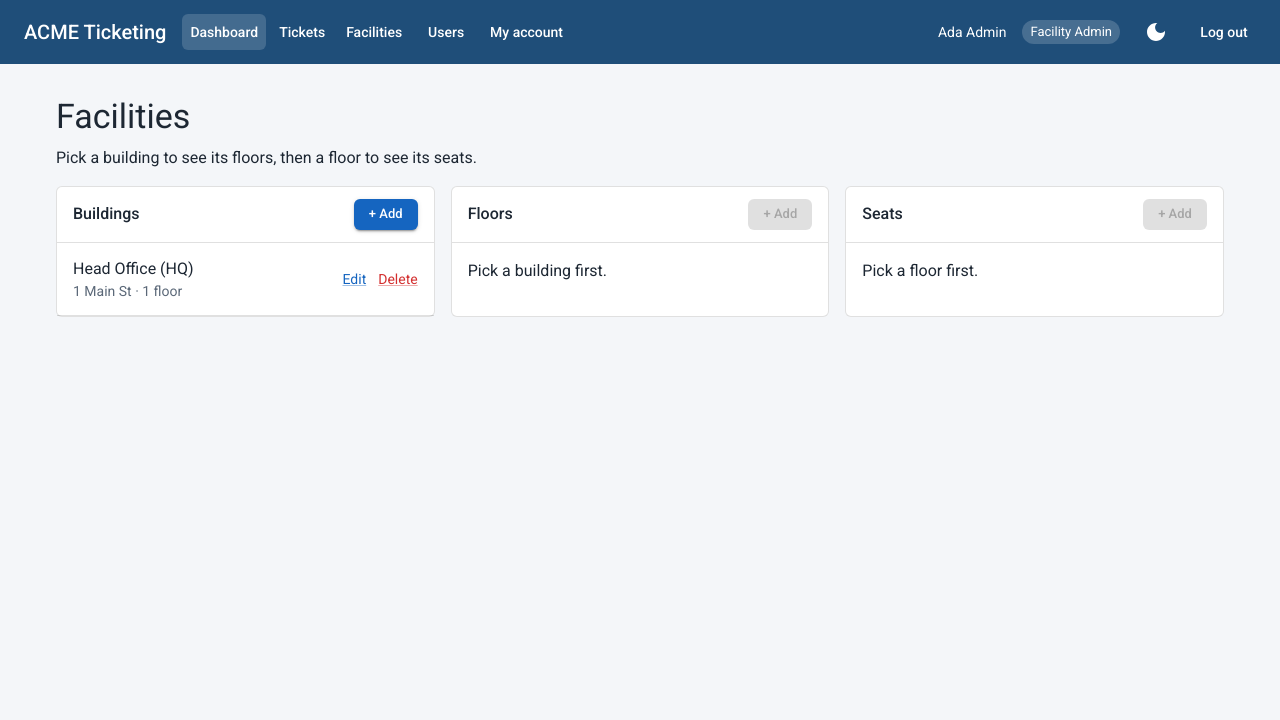
FacilitiesPage › a refused delete shows why, and keeps what was picked
Click the text "Head Office (HQ)" at (133,268), box [73,259,194,278]
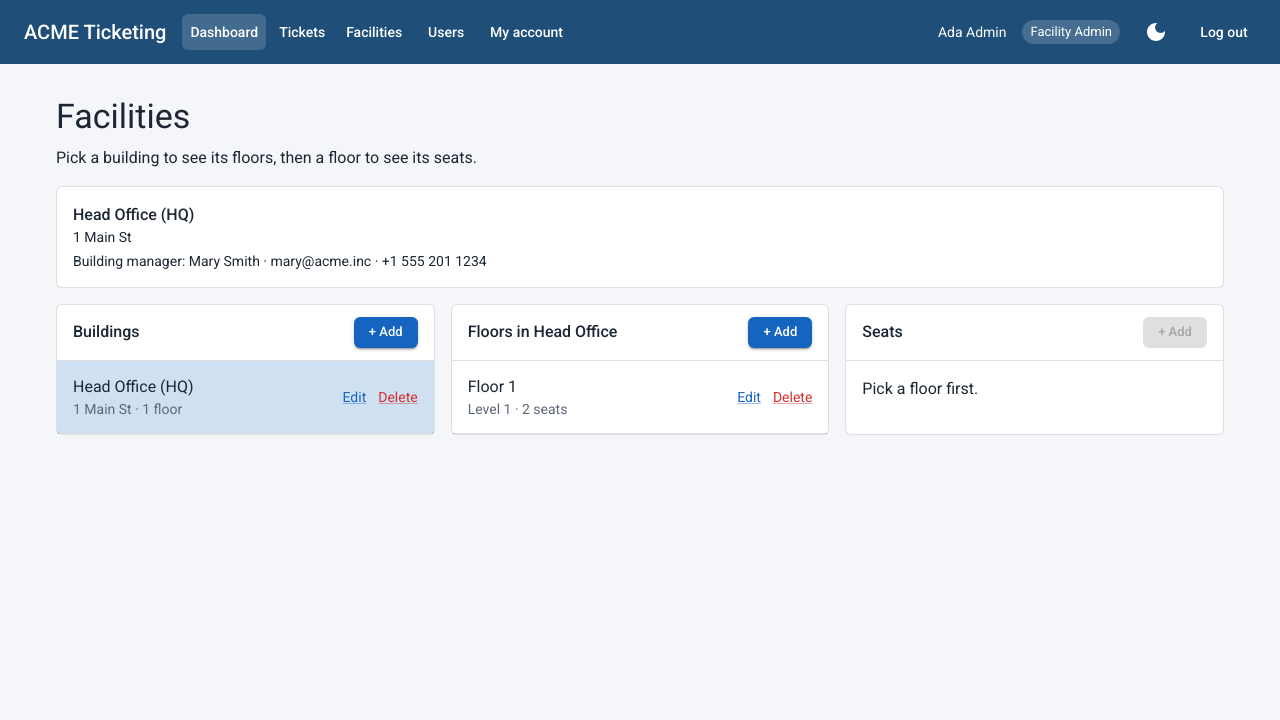
Click the text "Floor 1" at (492,386), box [468,377,517,396]
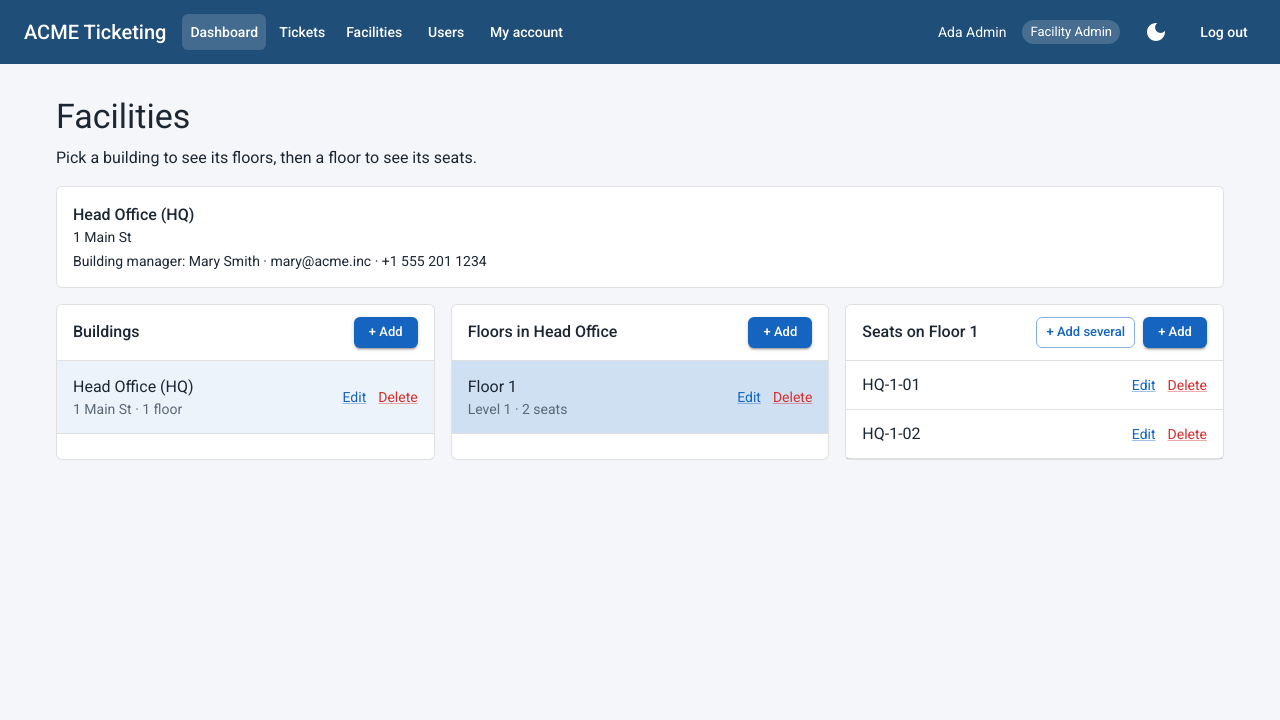
Check: the text "HQ-1-01" is shown, box [862,375,921,394]
Click the button "Delete" below "Buildings" at (398,397), box [378,387,418,407]
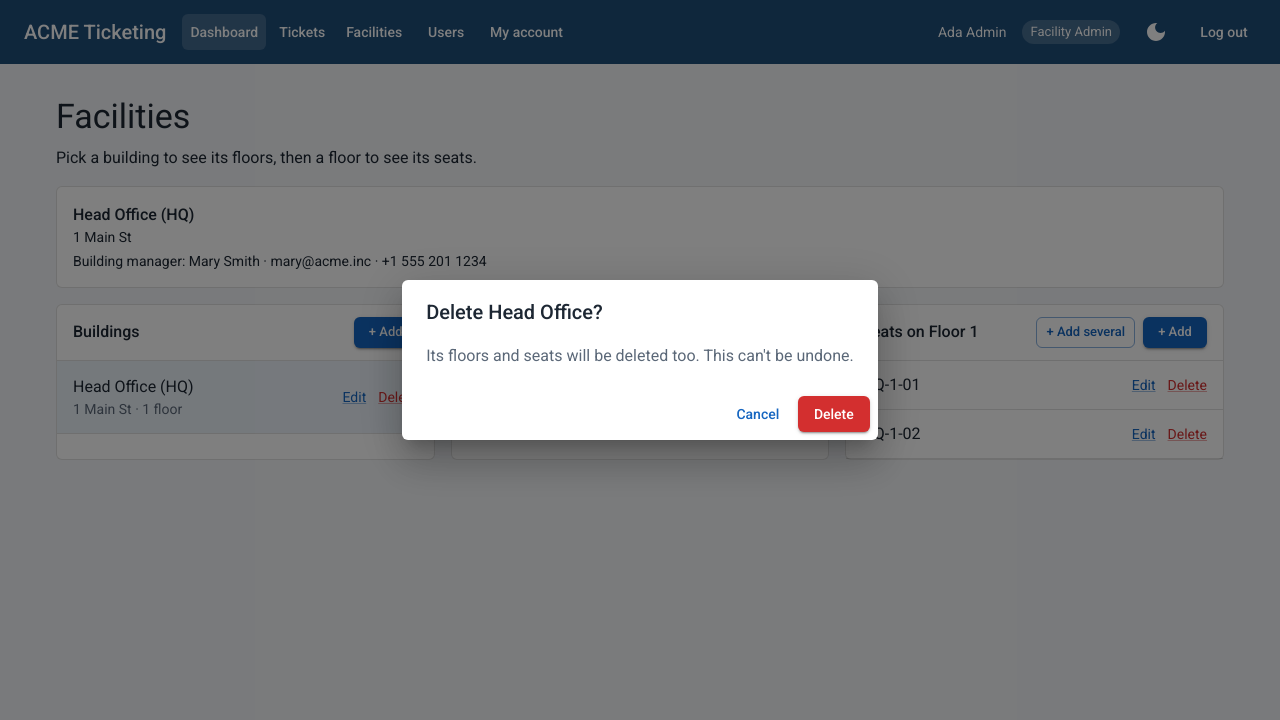
Click the button "Delete" at (834,414), box [798,396,870,432]
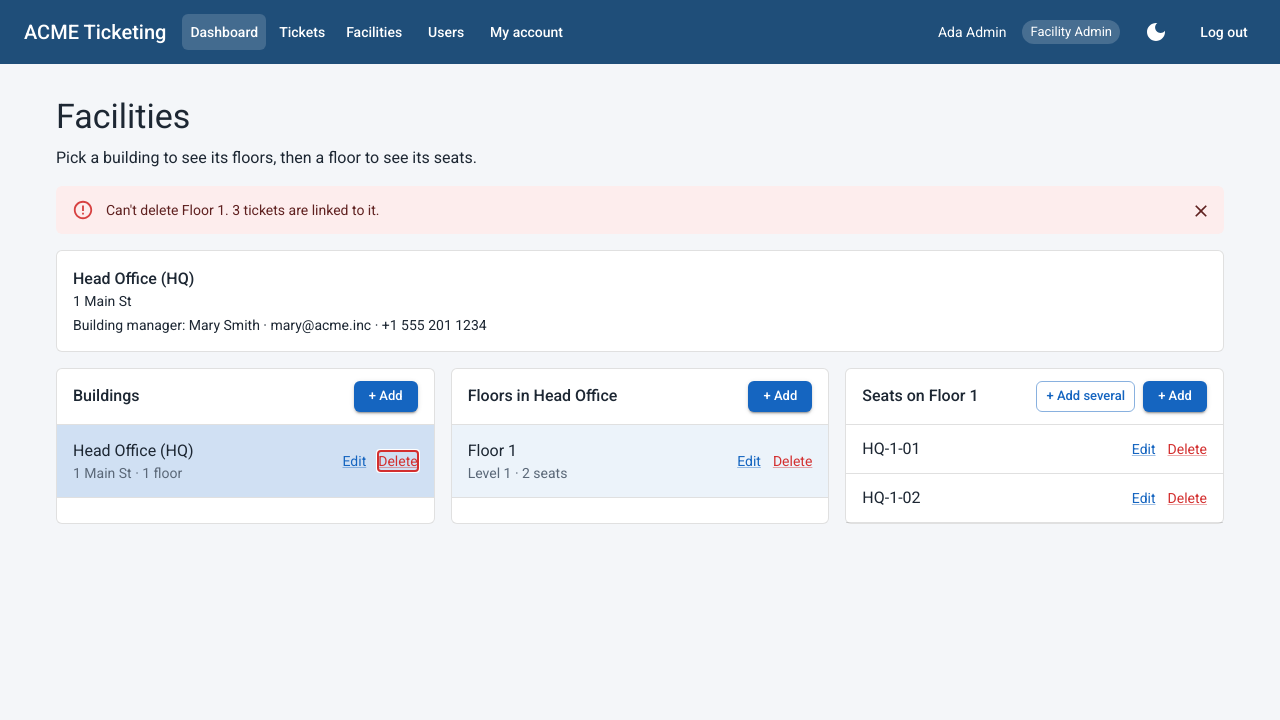
Check: the text "HQ-1-01" is shown, box [862,439,921,458]
Check: the text "Can't delete Floor 1. 3 tickets are linked to it." is shown, box [106,202,380,218]
